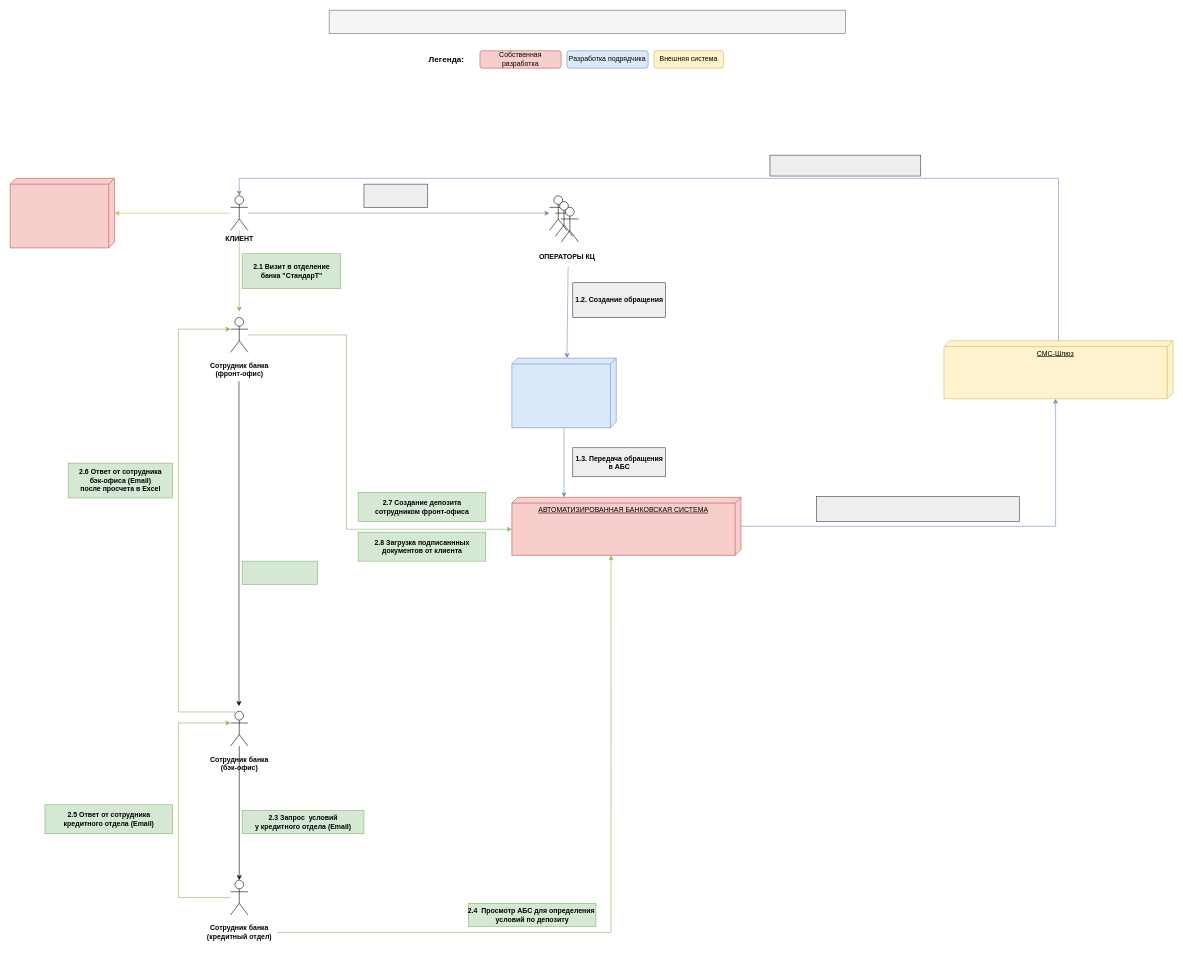
The diagram is 1183 pixels wide and 966 high, and some of its shapes have lost their labels. Each missing label, with the centre of its shape:
1.1 Звонок в КЦ: point (395, 195)
1.4. Формирование СМС-сообщения для отправки клиенту: point (917, 508)
1.5. Отправка СМС клиенту: point (845, 165)
2.2 Запрос ставки через Email: point (280, 572)
Интернет-банк: point (62, 213)
Система кол-центра: point (563, 393)
Схема интеграции приложений - Процесс открытия депозита: point (587, 21)
